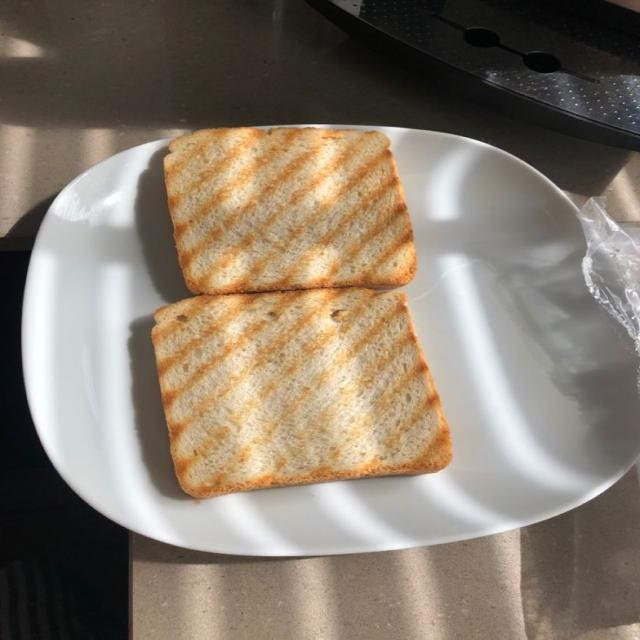toast bread: (152, 288, 451, 498), (163, 127, 416, 294)
